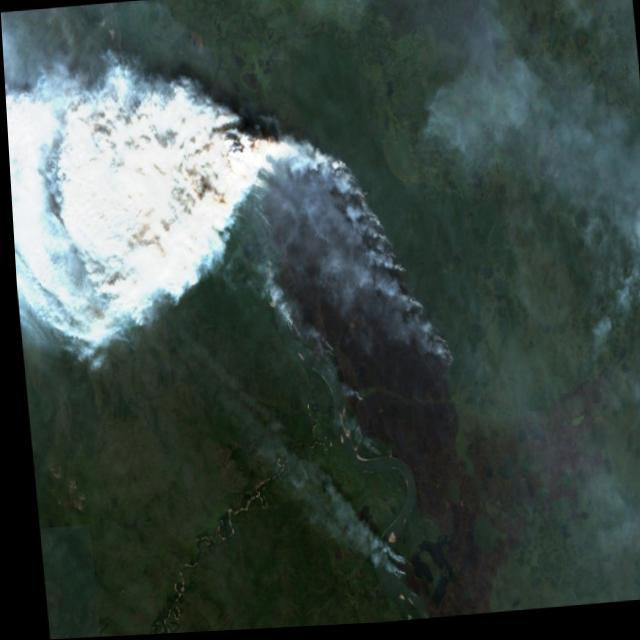fire: (201, 106, 459, 426)
